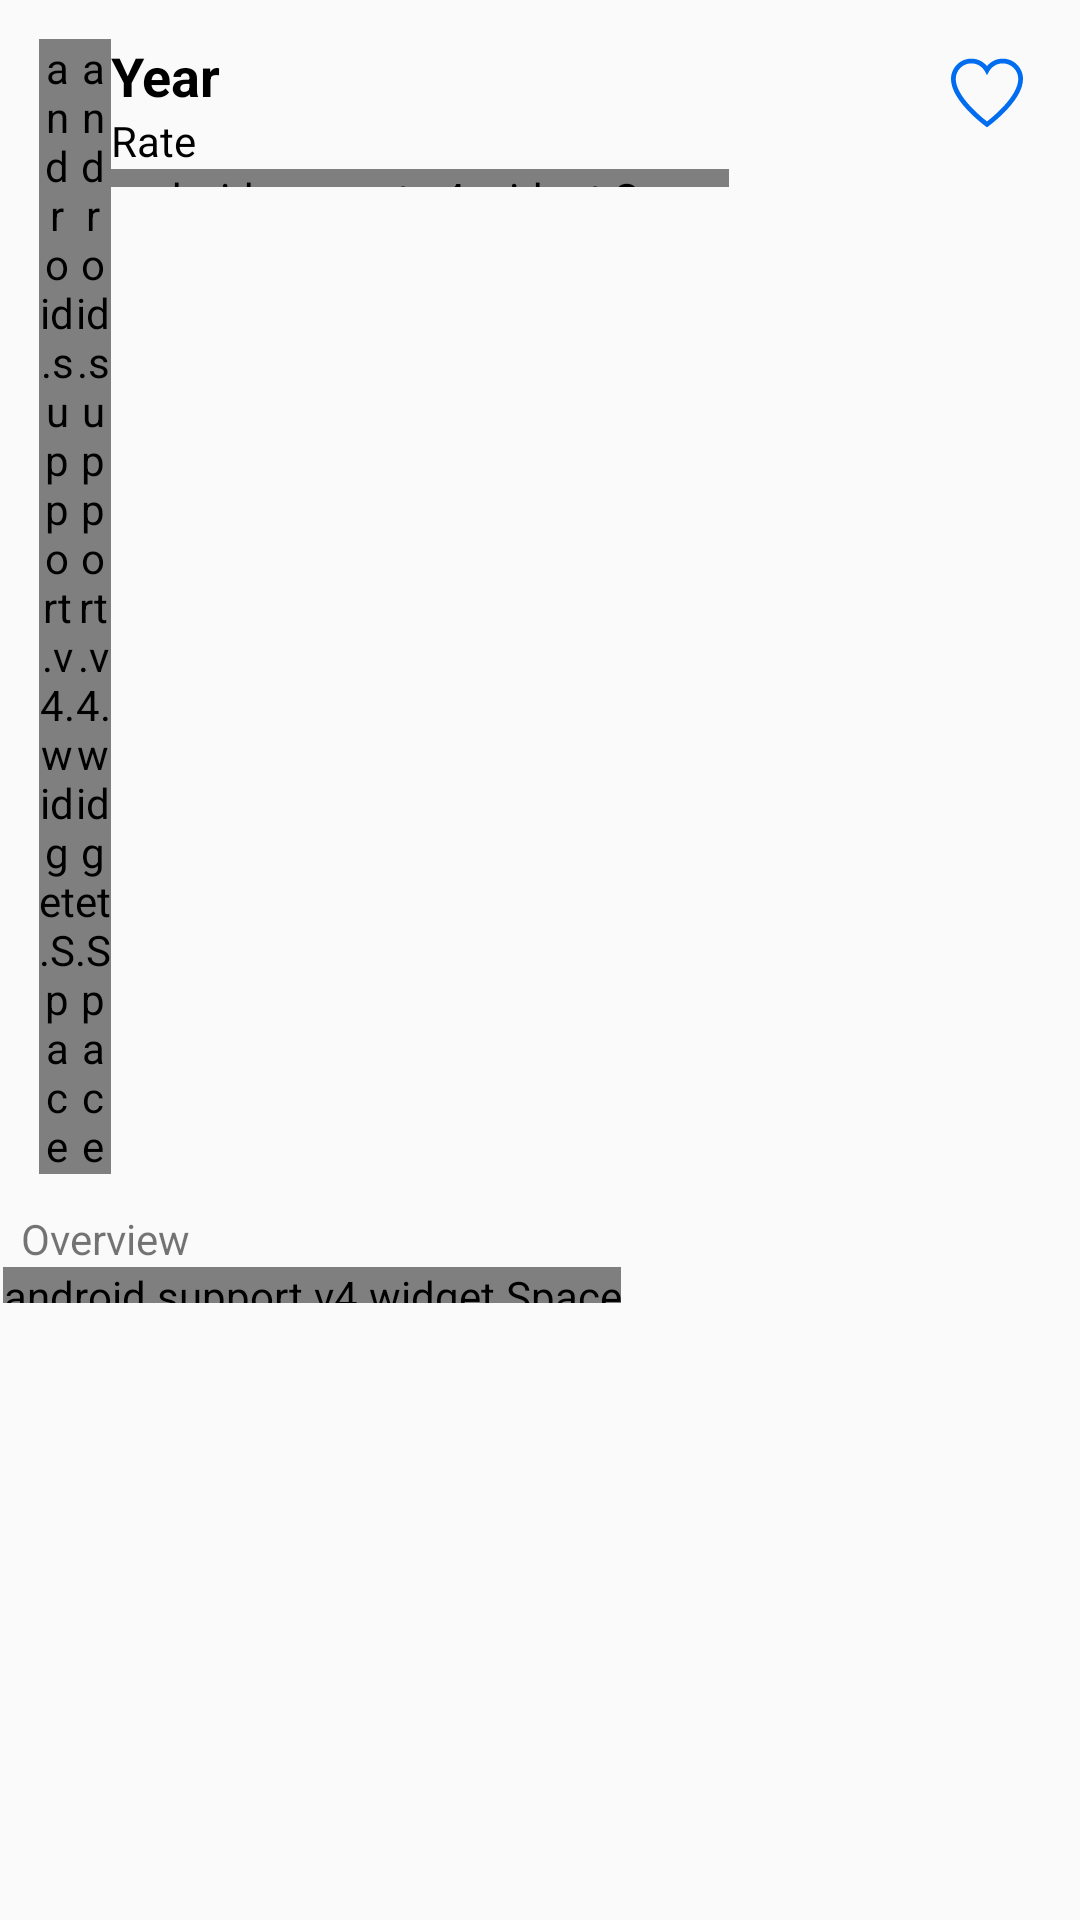

Named icons in this screenshot (1080*1920) and their bounding boxes, (x1=x1, y1=y1, x2=x2, y2=y2):
unfavorite: (x1=951, y1=58, x2=1023, y2=127)
